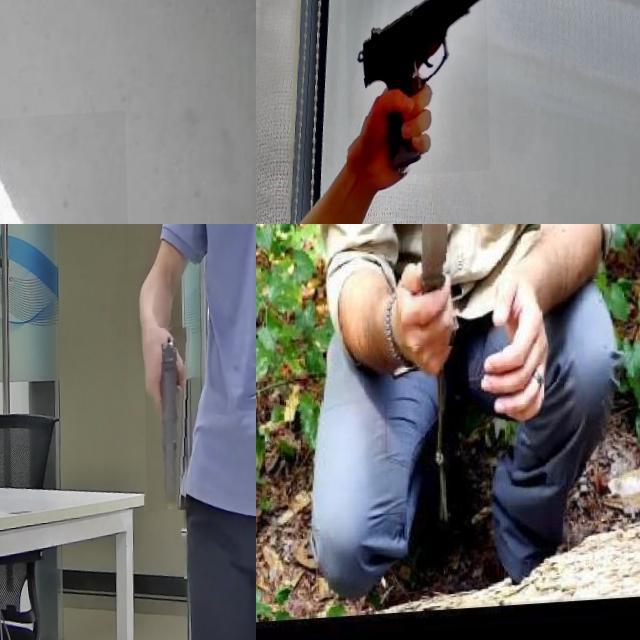-: (0, 116, 130, 224), (398, 224, 459, 352)
gun-knife-thesis - v11 Yolov5 augmented: (344, 0, 488, 183), (142, 330, 192, 516)
